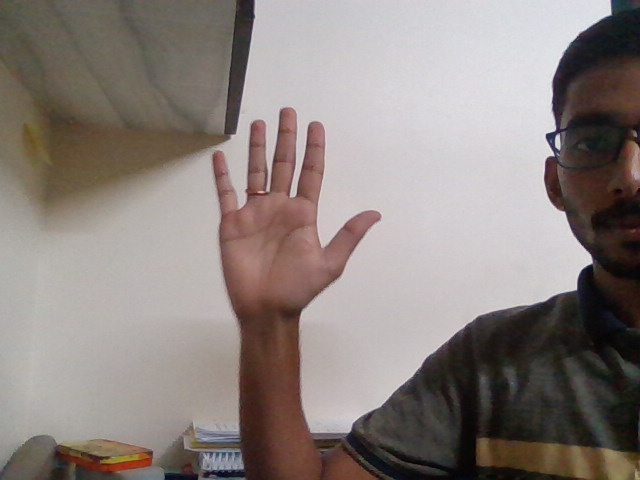Hello: (196, 103, 390, 352)
